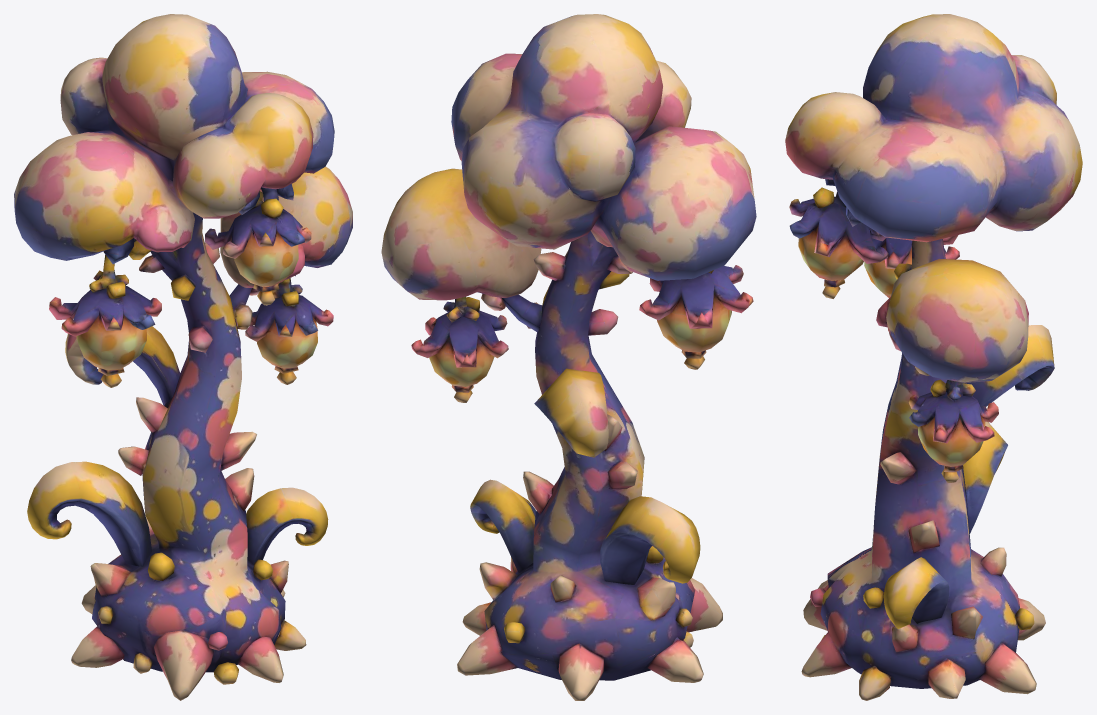
File: alien_tree_01.glb
3 renders of one model, left to right at view 1: azimuth 30°, elevation 25°; view 2: azimuth 150°, elevation 25°; view 3: azimuth 270°, elevation 25°, orthographic. The views are drawn at different scales.
Parts seen in each view (by area): view 1: tripo_node_b72f6f60-3db1-4c81-b29f-547c0ae96ccd; view 2: tripo_node_b72f6f60-3db1-4c81-b29f-547c0ae96ccd; view 3: tripo_node_b72f6f60-3db1-4c81-b29f-547c0ae96ccd.
Part boxes in pixels (x1,y1,x2,y2): tripo_node_b72f6f60-3db1-4c81-b29f-547c0ae96ccd: [14, 14, 352, 700]; tripo_node_b72f6f60-3db1-4c81-b29f-547c0ae96ccd: [381, 14, 756, 700]; tripo_node_b72f6f60-3db1-4c81-b29f-547c0ae96ccd: [785, 14, 1082, 700].
Bounding box in the file's own units: 0.5542 × 0.9995 × 0.4233.
1 material, 1 textured.
